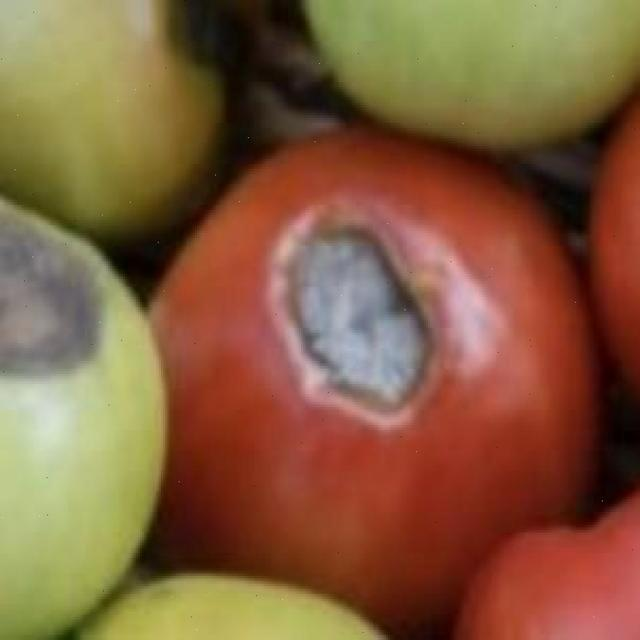Blossom End Rot Fruit: (36, 114, 237, 207)
